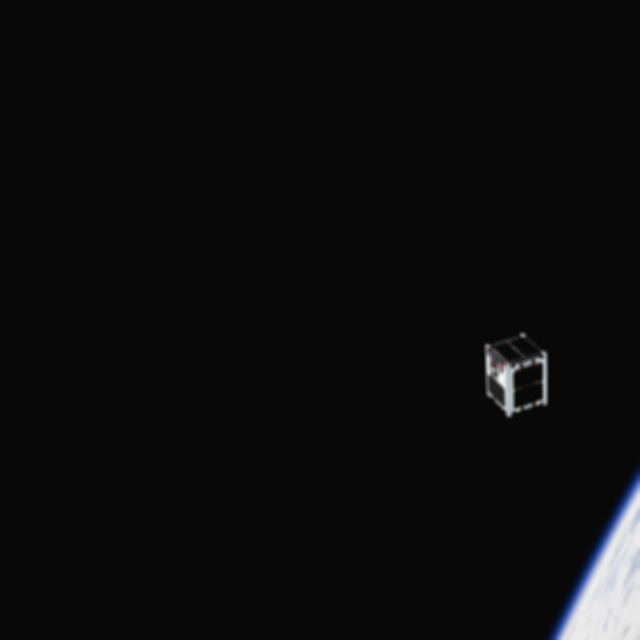medium_debris: (470, 330, 556, 420)
